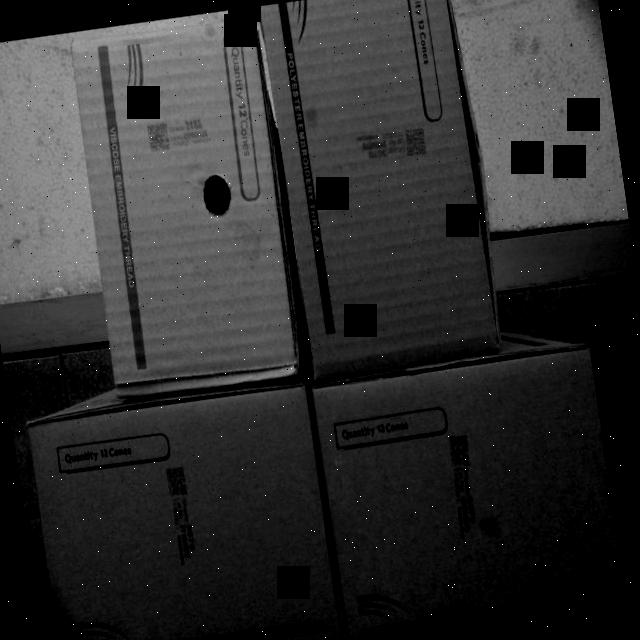box: (254, 0, 506, 385), (316, 346, 629, 638), (70, 20, 304, 408), (26, 385, 342, 640)
